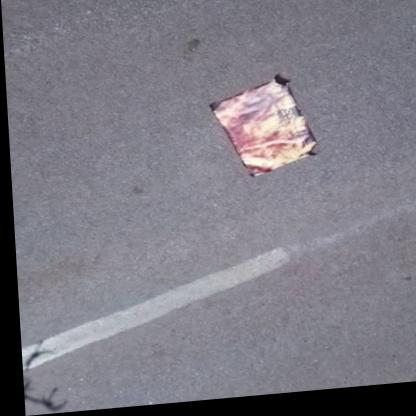fire-poster: (205, 75, 319, 184)
